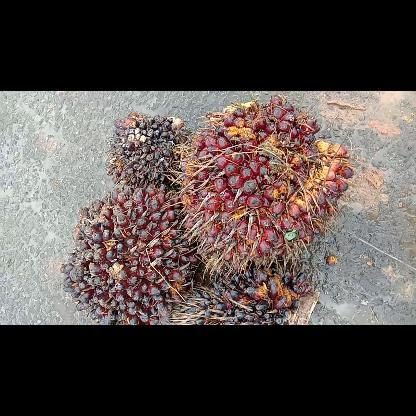Kurang masak: (58, 188, 196, 324)
TBS abnormal: (186, 262, 320, 324), (109, 112, 187, 186)
TBS masak: (176, 94, 352, 270)
